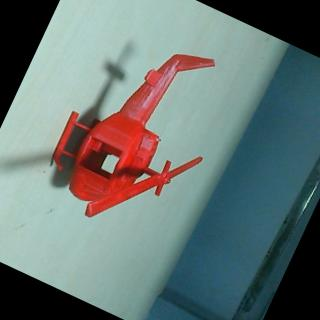Helicopter: (32, 12, 244, 250)
